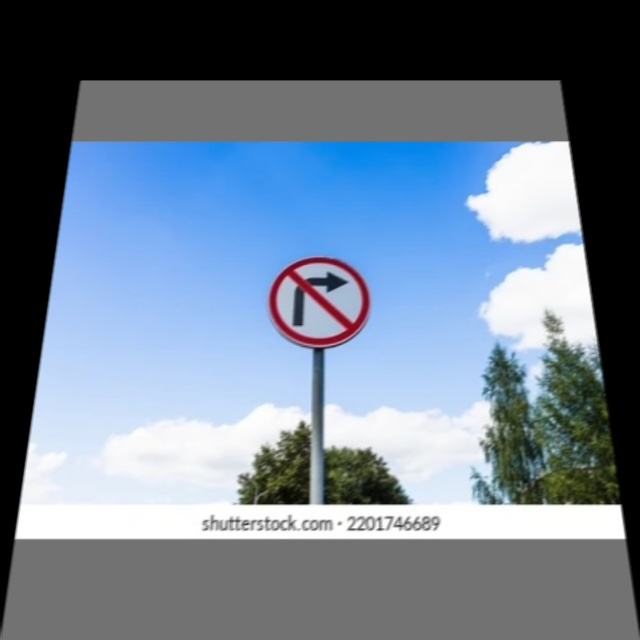Right_Turn_Prohibited: (266, 254, 371, 350)
